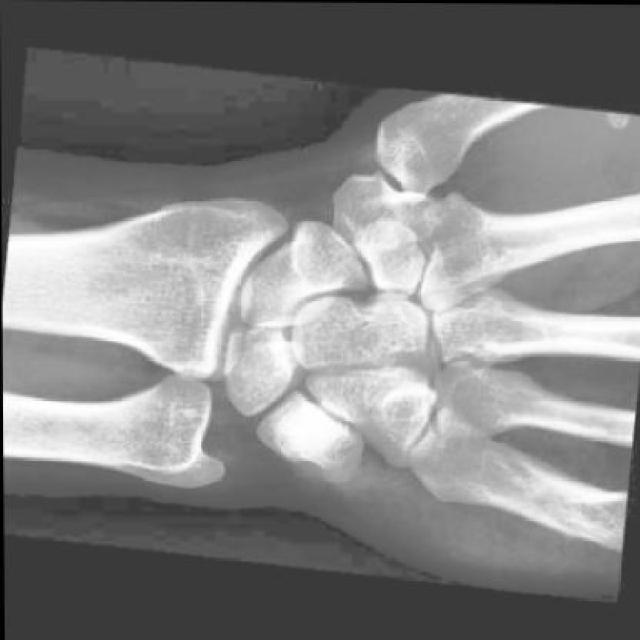Fracture: (288, 400, 350, 471)
